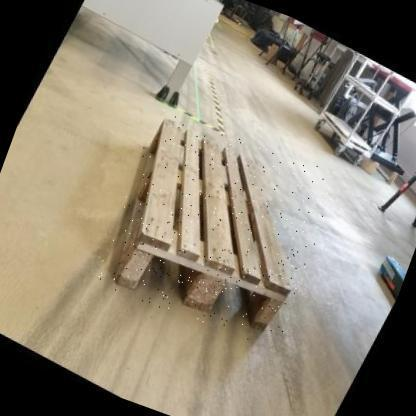pallet: (112, 120, 291, 334)
